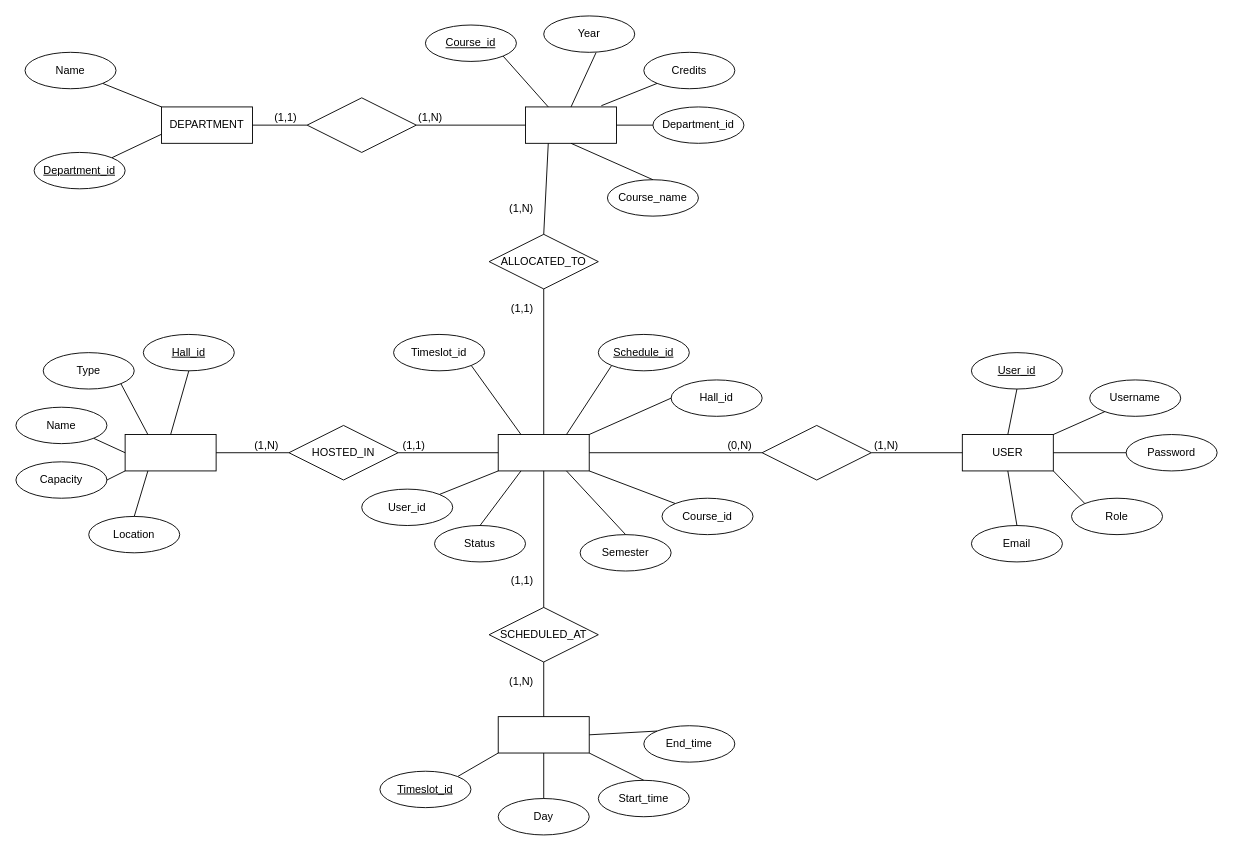
Some shapes in this 1233 by 851 pixel diagram are drawn without their labels. Each missing label, with the box of its shape:
BOOKED_BY: (761, 425, 871, 480)
COURSES: (525, 106, 617, 143)
LECTURE_HALL: (124, 434, 216, 471)
OFFERS: (306, 97, 416, 152)
SCHEDULE: (497, 434, 589, 471)
TIME_SLOT: (497, 716, 589, 753)
